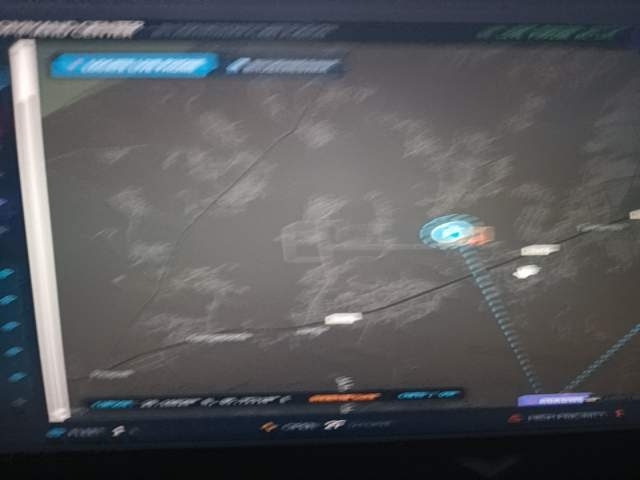pothole: (104, 404, 311, 480), (536, 403, 640, 480)
